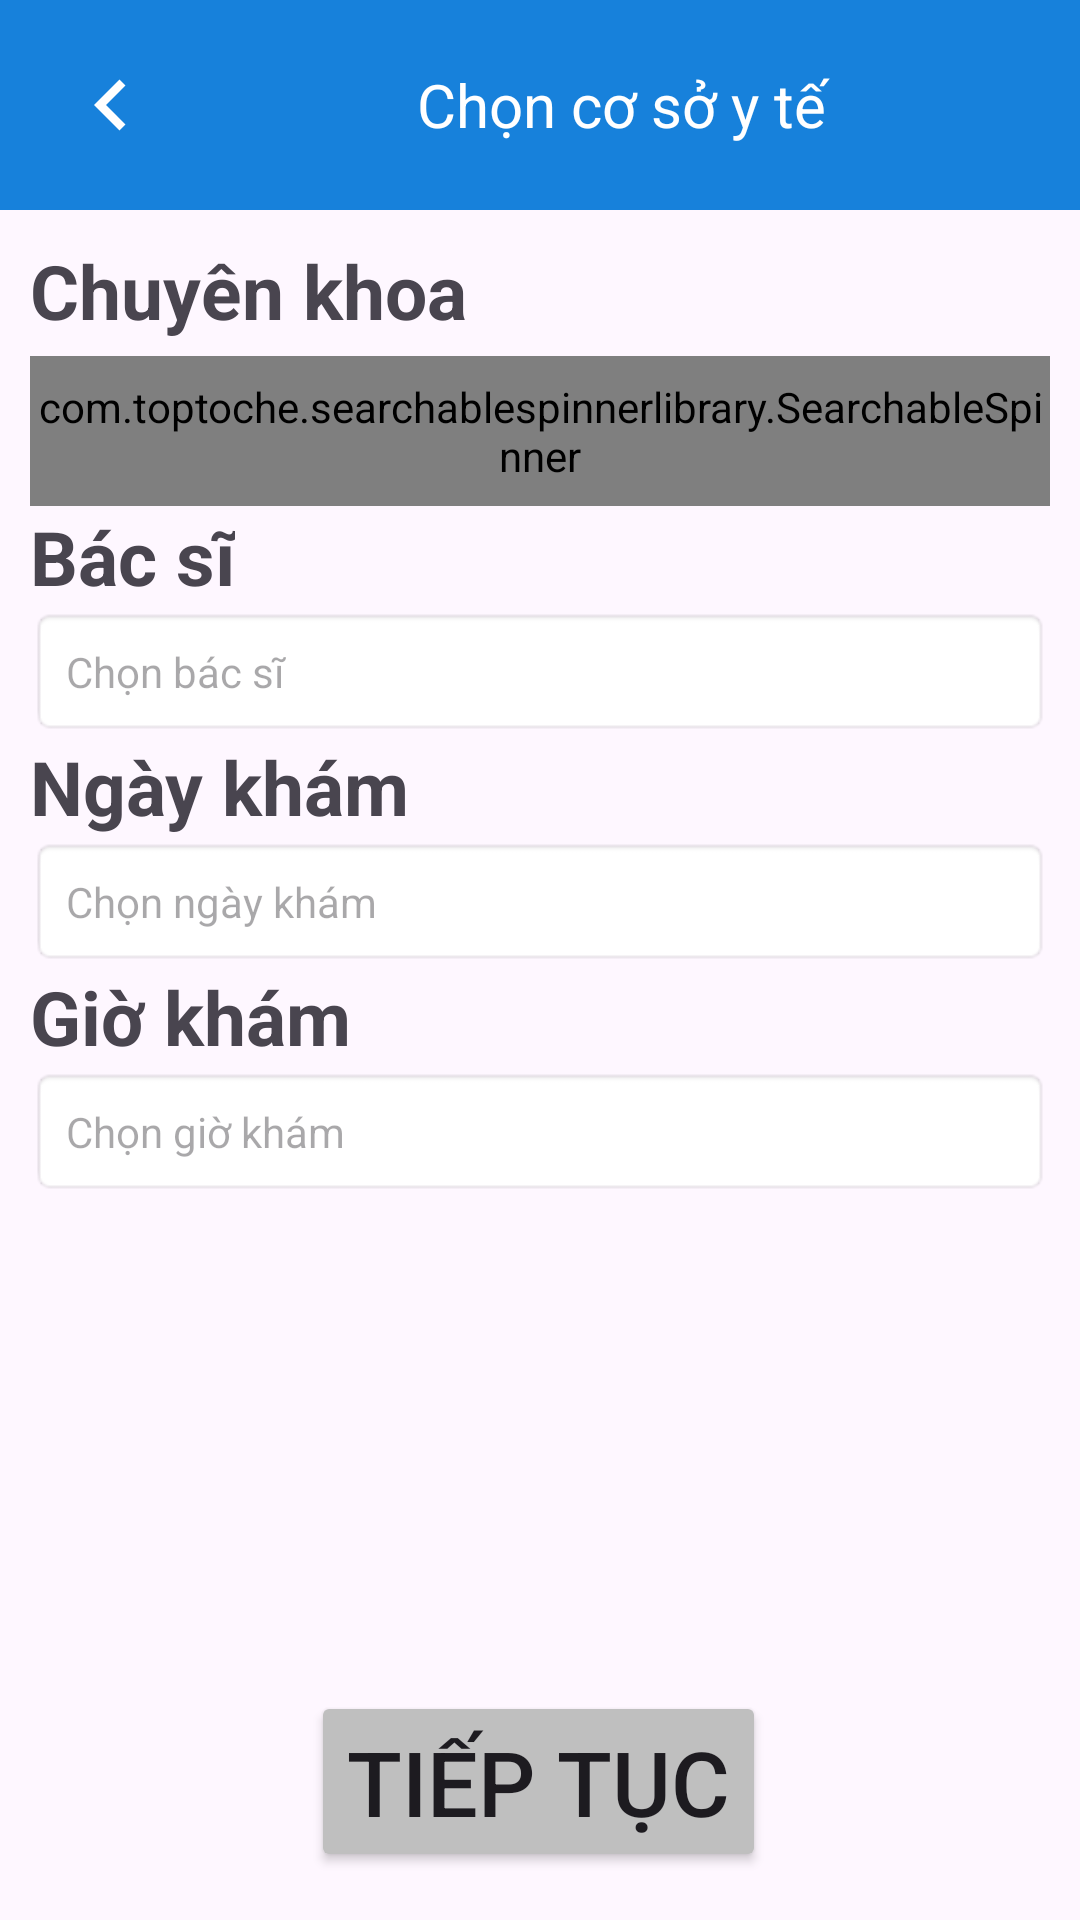

Named icons in this screenshot (1080px x 1920px) and their bounding boxes, box(x1, y1, x2, y2):
leftback: box(94, 79, 126, 131)
